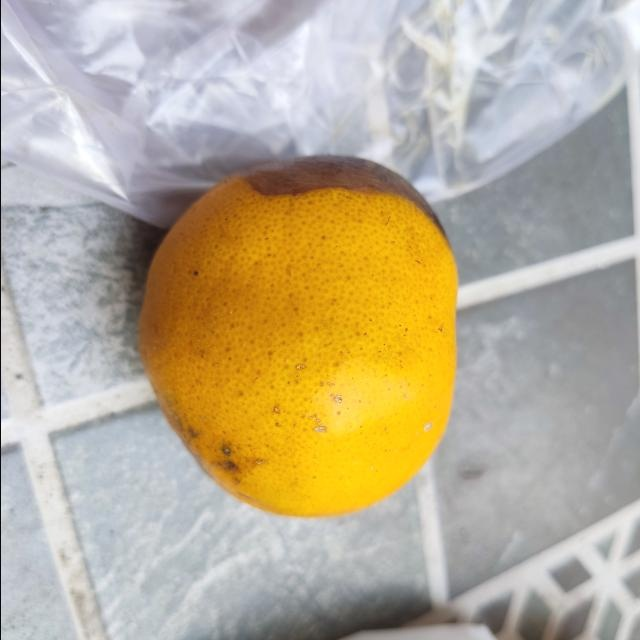agrume: (131, 150, 461, 526)
